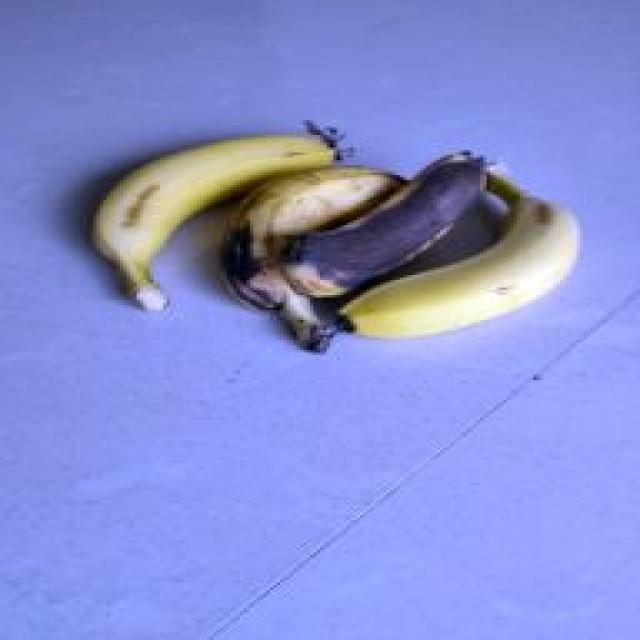Wet: (220, 157, 410, 355), (266, 147, 496, 295)
